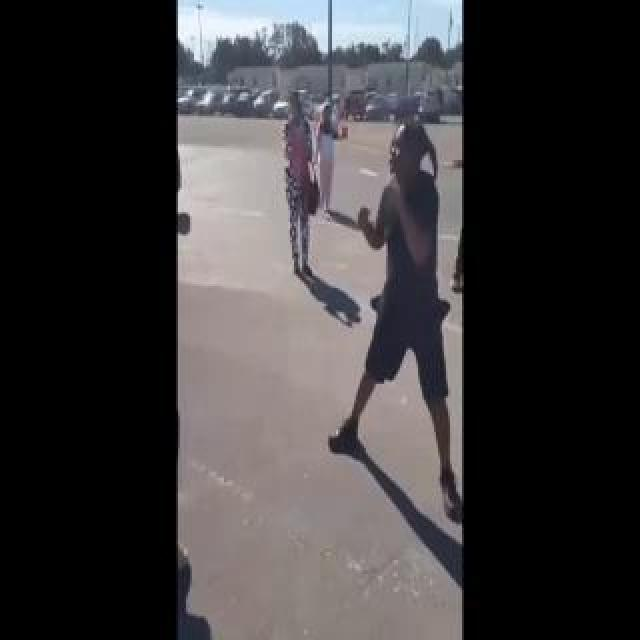fight: (350, 124, 464, 516), (254, 93, 324, 303)
